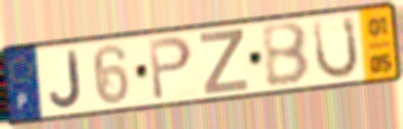6: (91, 42, 132, 107)
B: (259, 20, 313, 90)
J: (47, 48, 84, 110)
P: (146, 33, 195, 103)
U: (311, 13, 362, 82)
Z: (197, 28, 250, 97)
